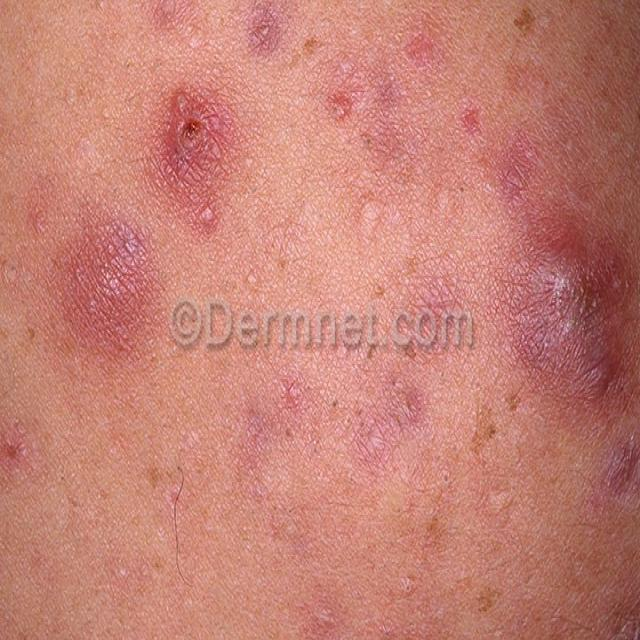Acne: (492, 189, 640, 427), (64, 218, 158, 350), (157, 84, 235, 237), (350, 370, 429, 482), (595, 421, 640, 517), (494, 124, 541, 213), (595, 428, 640, 509), (240, 0, 291, 67), (320, 70, 366, 141), (399, 16, 442, 87), (0, 414, 37, 489), (453, 96, 490, 148), (628, 412, 628, 424)
